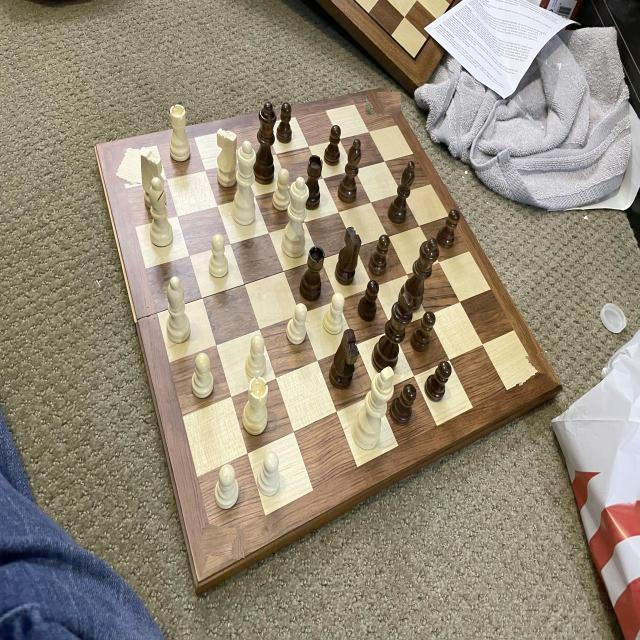chess-table-corners: (201, 526, 245, 558), (516, 354, 551, 391), (109, 147, 141, 184), (366, 92, 401, 116)
